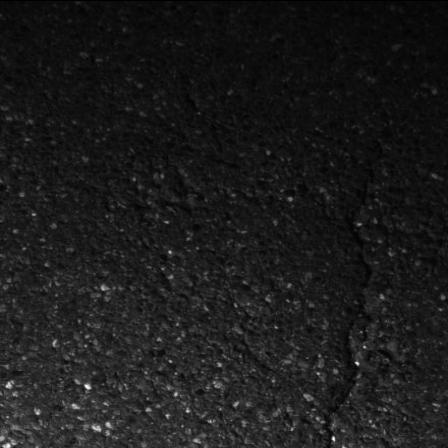crack: (316, 103, 398, 448)
